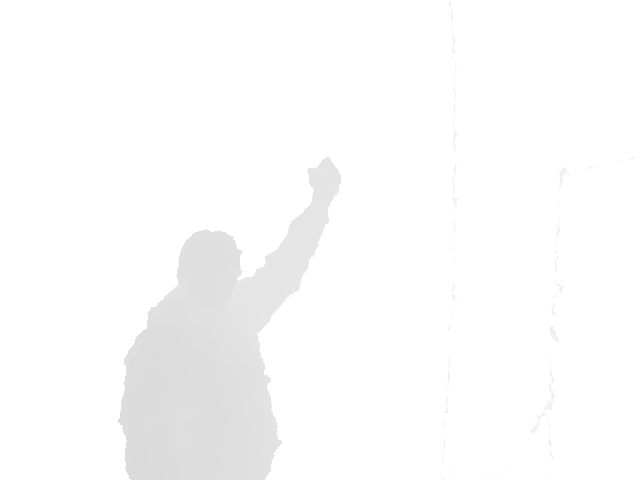hand: (307, 156, 343, 201)
head: (176, 229, 244, 310)
person: (116, 156, 343, 480)
